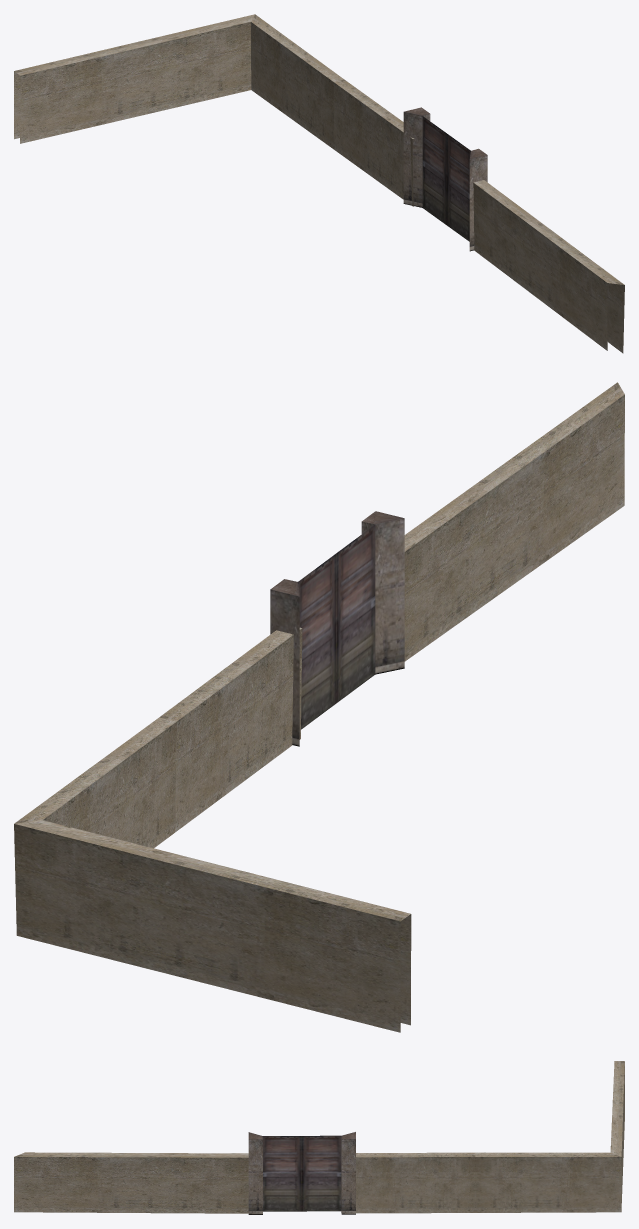
File: building14.fbx
The picture shows the model from 3 angles, top to bottom: view 1: azimuth 30°, elevation 25°; view 2: azimuth 150°, elevation 25°; view 3: azimuth 270°, elevation 25°; orthographic projection. The views are drawn at different scales.
Parts seen in each view (by area): view 1: polySurface412; view 2: polySurface412; view 3: polySurface412.
Part boxes in pixels (box(x1,y1,x2,y2)): polySurface412: box(14, 14, 624, 353); polySurface412: box(14, 382, 624, 1032); polySurface412: box(14, 1061, 624, 1214).
Size of the model in its own units: 799 by 289 by 2106.
1 material, 1 textured.
